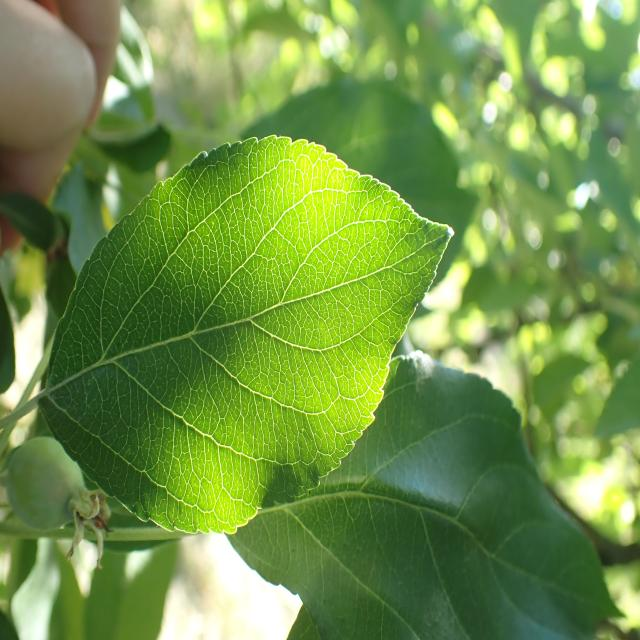healthy: (41, 134, 454, 535), (226, 351, 627, 639)
